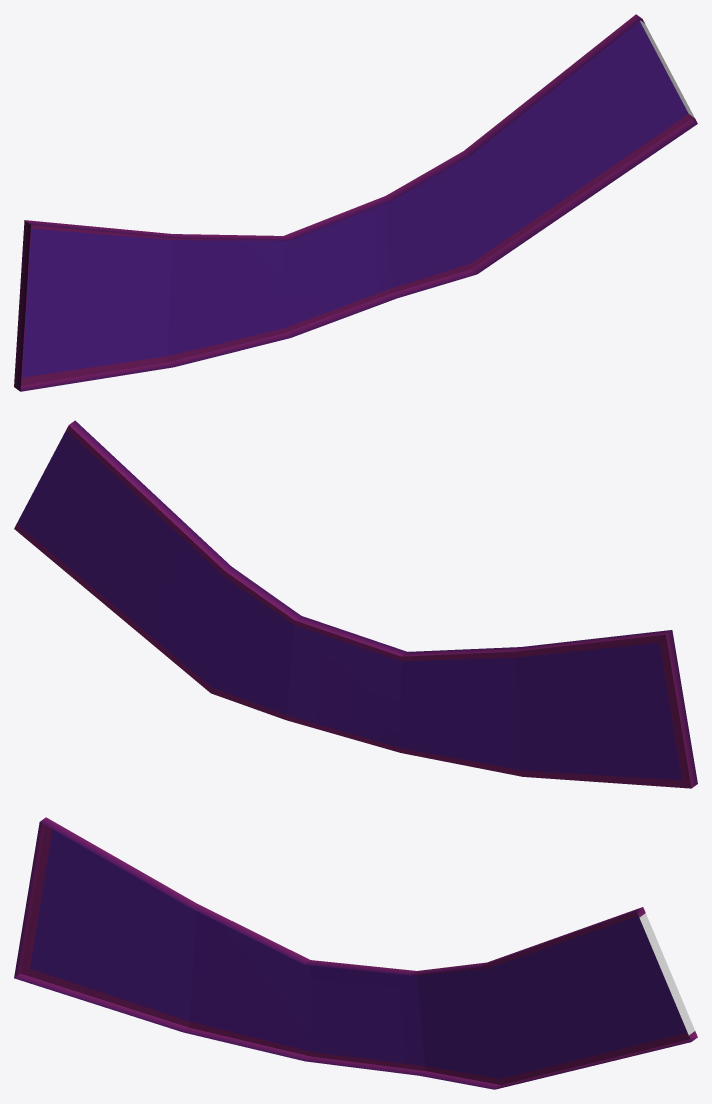
Rendered from Carpet.fbx.
The picture shows the model from 3 angles, top to bottom: view 1: azimuth 30°, elevation 25°; view 2: azimuth 150°, elevation 25°; view 3: azimuth 330°, elevation 25°; orthographic projection.
Visible parts, largest first — view 1: Carpet; view 2: Carpet; view 3: Carpet.
Boxes of the visible parts, x1,y1,x2,y2 form: Carpet: (14, 14, 697, 391); Carpet: (14, 420, 697, 788); Carpet: (14, 817, 697, 1089).
Bounding box in the file's own units: 1060 × 359 × 62.19.
